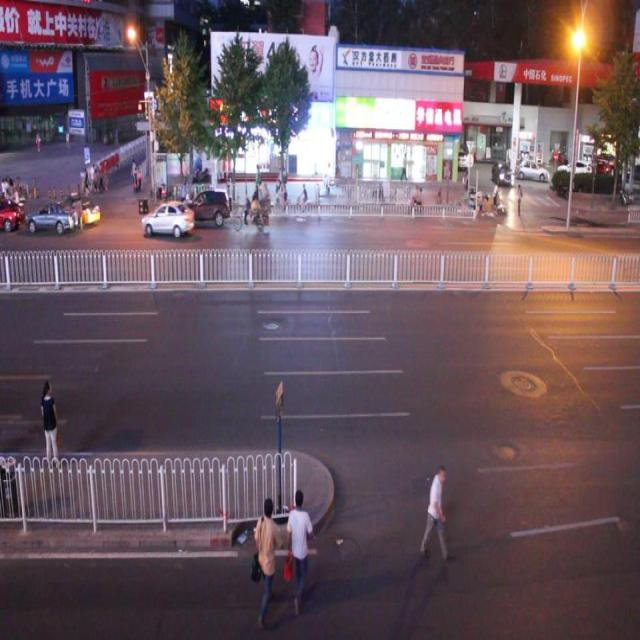car: (175, 184, 230, 228), (142, 200, 195, 238), (22, 199, 78, 234), (52, 190, 101, 226)
